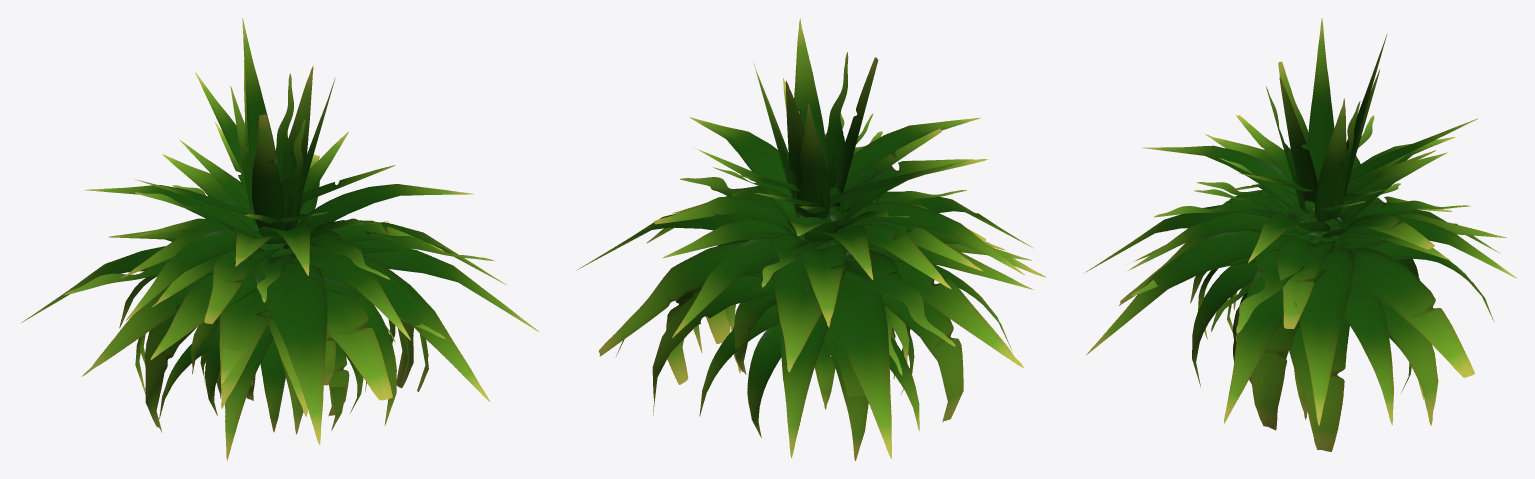
Rendered from Foliage_Yucca_v04.fbx.
3 renders of one model, left to right at view 1: azimuth 30°, elevation 25°; view 2: azimuth 150°, elevation 25°; view 3: azimuth 270°, elevation 25°, orthographic. The views are drawn at different scales.
Visible parts, largest first — view 1: low_Yucca_04; view 2: low_Yucca_04; view 3: low_Yucca_04.
Boxes of the visible parts, left/top/right/bottom form: low_Yucca_04: left=21, top=18, right=538, bottom=460; low_Yucca_04: left=576, top=18, right=1046, bottom=460; low_Yucca_04: left=1083, top=18, right=1516, bottom=451.
Bounding box in the file's own units: 3.18 × 2.77 × 2.94.
